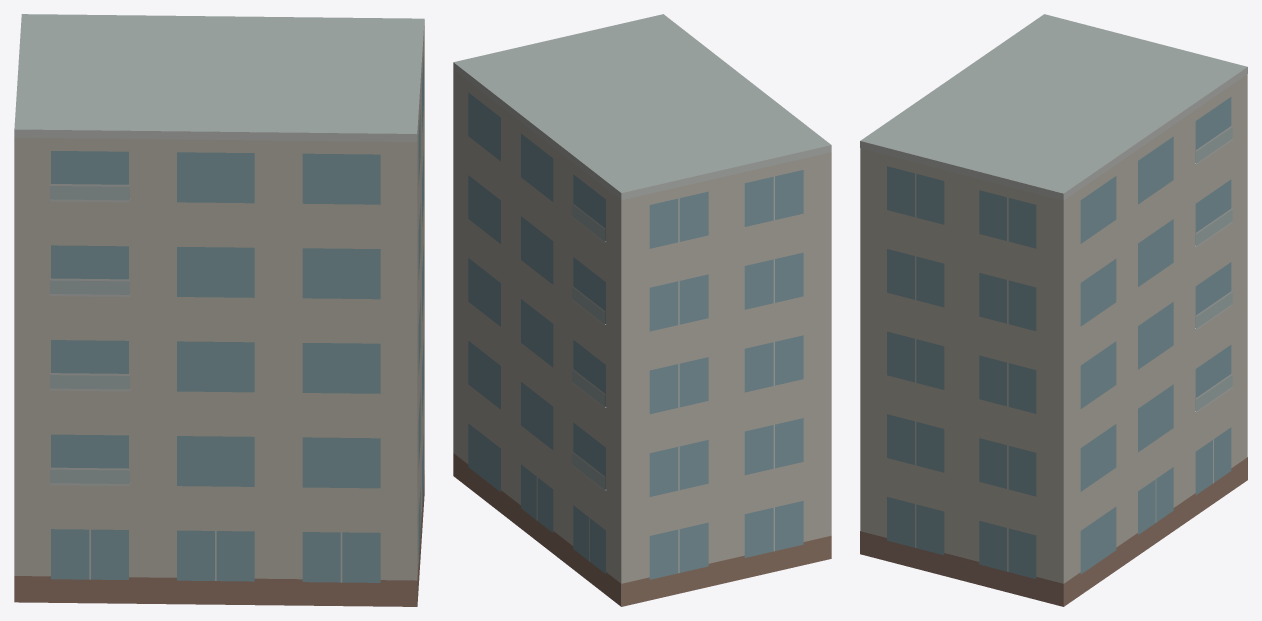
Rendered from survey-upis-32662138.glb.
3 views of the same model, side by side, from view 1: azimuth 30°, elevation 25°; view 2: azimuth 150°, elevation 25°; view 3: azimuth 270°, elevation 25° (orthographic). The views are drawn at different scales.
Parts seen in each view (by area): view 1: survey-upis-32662138.tmp; view 2: survey-upis-32662138.tmp; view 3: survey-upis-32662138.tmp.
Part boxes in pixels (left/top/right/bottom): survey-upis-32662138.tmp: left=14, top=14, right=424, bottom=606; survey-upis-32662138.tmp: left=453, top=14, right=831, bottom=606; survey-upis-32662138.tmp: left=860, top=14, right=1247, bottom=606.
Bounding box in the file's own units: 13.26 × 14.21 × 12.09.
